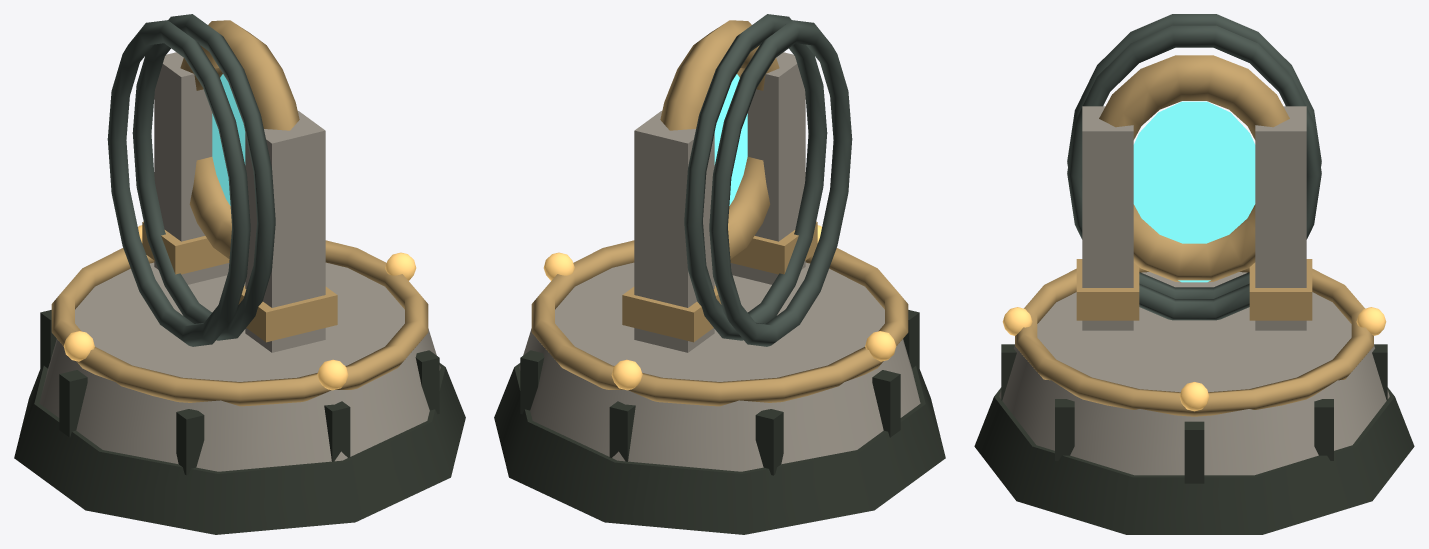
File: tower_portal_portalSluice.glb
The picture shows the model from 3 angles, left to right: view 1: azimuth 30°, elevation 25°; view 2: azimuth 150°, elevation 25°; view 3: azimuth 270°, elevation 25°; orthographic projection. The views are drawn at different scales.
Visible parts, largest first — view 1: stone_1, foot_0, time_gate_22, rim_2, time_gate_21, arch_pillar_15, arch_pillar_17, arch_19, band_16, band_18, mortar_6, mortar_7 (+7 smaller); view 2: stone_1, foot_0, time_gate_22, rim_2, time_gate_21, arch_pillar_17, arch_pillar_15, arch_19, band_18, band_16, mortar_8, mortar_7 (+7 smaller); view 3: stone_1, foot_0, portal_surface_20, arch_19, rim_2, time_gate_21, arch_pillar_15, arch_pillar_17, time_gate_22, band_16, band_18, mortar_3 (+7 smaller).
Boxes of the visible parts, x1=… form: stone_1: x1=39, y1=262, x2=440, y2=471; foot_0: x1=14, y1=363, x2=465, y2=534; time_gate_22: x1=107, y1=20, x2=250, y2=346; rim_2: x1=51, y1=240, x2=428, y2=406; time_gate_21: x1=132, y1=14, x2=275, y2=340; arch_pillar_15: x1=245, y1=111, x2=325, y2=352; arch_pillar_17: x1=154, y1=52, x2=229, y2=284; arch_19: x1=180, y1=20, x2=299, y2=259; band_16: x1=238, y1=285, x2=337, y2=342; band_18: x1=142, y1=221, x2=229, y2=274; mortar_6: x1=176, y1=409, x2=204, y2=475; mortar_7: x1=59, y1=370, x2=87, y2=437; stone_1: x1=519, y1=262, x2=920, y2=471; foot_0: x1=494, y1=363, x2=945, y2=534; time_gate_22: x1=709, y1=20, x2=852, y2=346; rim_2: x1=531, y1=240, x2=908, y2=406; time_gate_21: x1=684, y1=14, x2=827, y2=340; arch_pillar_17: x1=634, y1=111, x2=714, y2=352; arch_pillar_15: x1=730, y1=52, x2=805, y2=284; arch_19: x1=660, y1=20, x2=779, y2=259; band_18: x1=622, y1=285, x2=721, y2=342; band_16: x1=730, y1=221, x2=817, y2=274; mortar_8: x1=755, y1=409, x2=783, y2=475; mortar_7: x1=872, y1=370, x2=900, y2=437; stone_1: x1=999, y1=272, x2=1389, y2=475; foot_0: x1=974, y1=387, x2=1414, y2=534; portal_surface_20: x1=1133, y1=101, x2=1255, y2=282; arch_19: x1=1099, y1=55, x2=1289, y2=281; rim_2: x1=1015, y1=267, x2=1373, y2=416; time_gate_21: x1=1067, y1=25, x2=1321, y2=320; arch_pillar_15: x1=1082, y1=106, x2=1133, y2=330; arch_pillar_17: x1=1255, y1=106, x2=1306, y2=330; time_gate_22: x1=1067, y1=14, x2=1321, y2=298; band_16: x1=1076, y1=259, x2=1139, y2=320; band_18: x1=1249, y1=259, x2=1312, y2=320; mortar_3: x1=1184, y1=421, x2=1204, y2=483.
Size of the model in its own units: 0.5326 by 0.5674 by 0.56.
